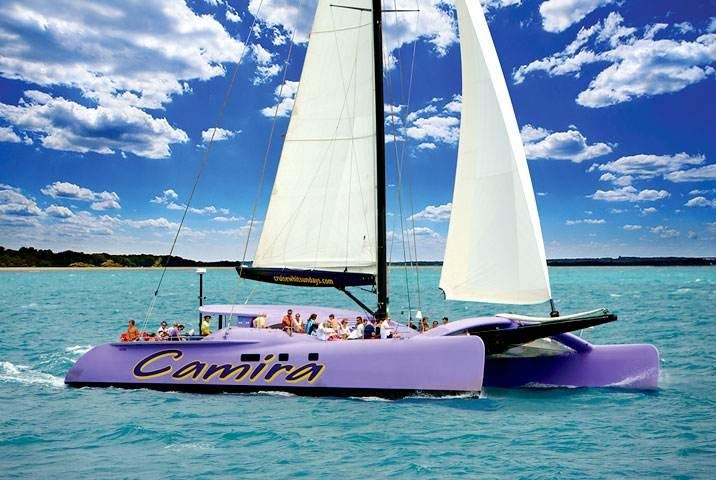fanchuan: (61, 1, 654, 399)
